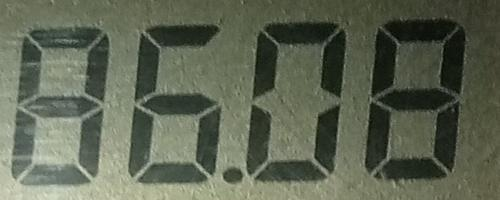.: (221, 165, 244, 186)
